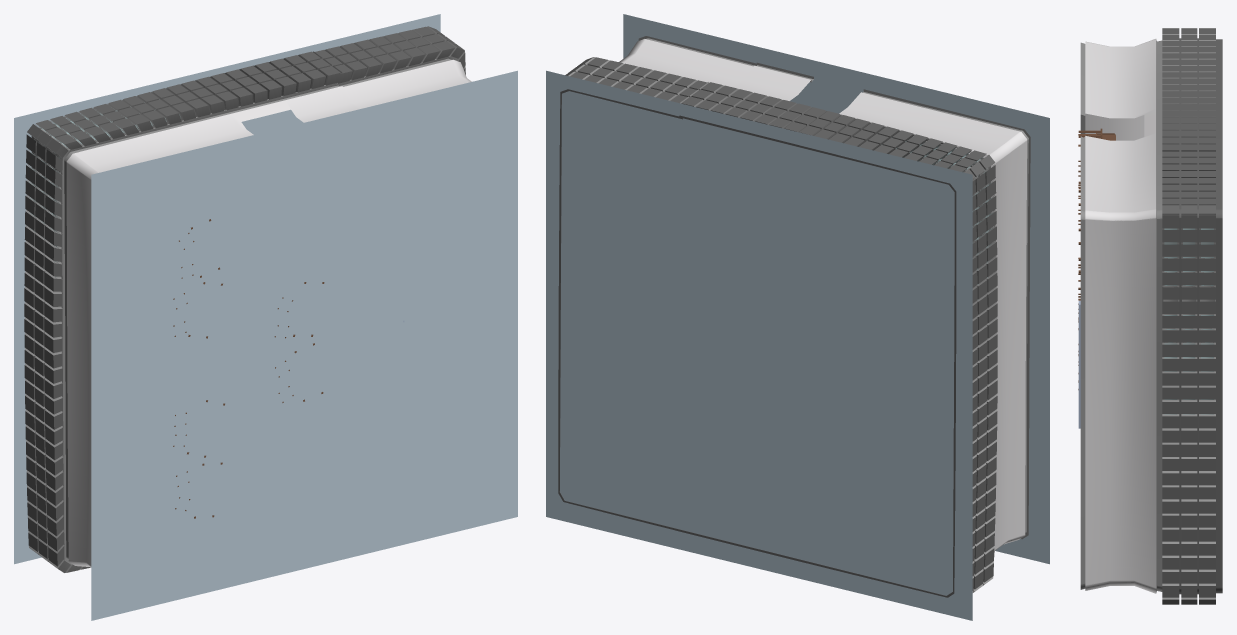
Rendered from m_SmallRoom_2_NoDoors_Conference.fbx.
3 views of the same model, side by side, from view 1: azimuth 30°, elevation 25°; view 2: azimuth 150°, elevation 25°; view 3: azimuth 270°, elevation 25° (orthographic). The views are drawn at different scales.
Parts seen in each view (by area): view 1: m_floor, m_wall, m_ceiling; view 2: m_ceiling, m_wall, m_floor; view 3: m_wall, m_projectorScreen.001.
Part boxes in pixels (bbox=[...]): m_floor: bbox=[91, 70, 517, 620]; m_wall: bbox=[24, 26, 471, 572]; m_ceiling: bbox=[14, 14, 440, 564]; m_ceiling: bbox=[546, 70, 972, 620]; m_wall: bbox=[558, 36, 1030, 597]; m_floor: bbox=[623, 14, 1049, 564]; m_wall: bbox=[1080, 28, 1222, 604]; m_projectorScreen.001: bbox=[1078, 300, 1080, 428].
Size of the model in its own units: 1515 by 1515 by 478.
